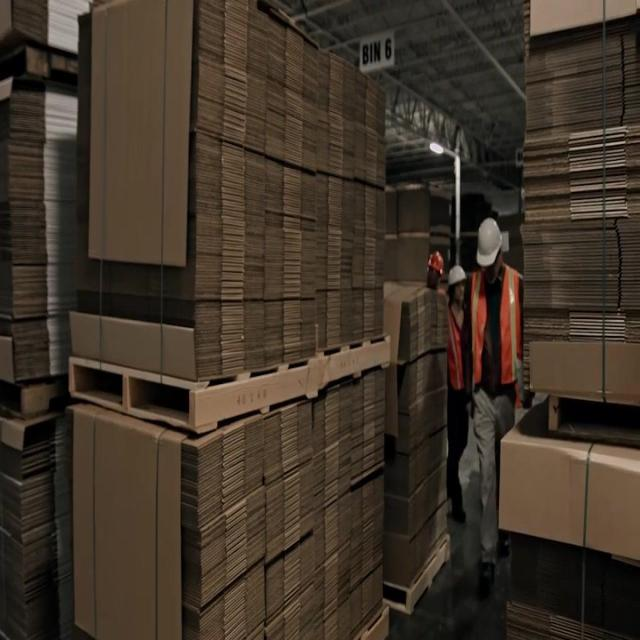Vest: (471, 262, 521, 384), (446, 298, 464, 394)
